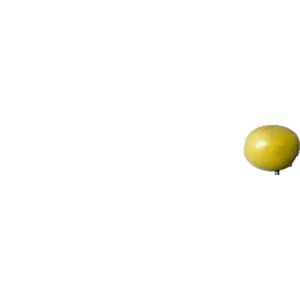maracujá: (244, 125, 300, 175)
